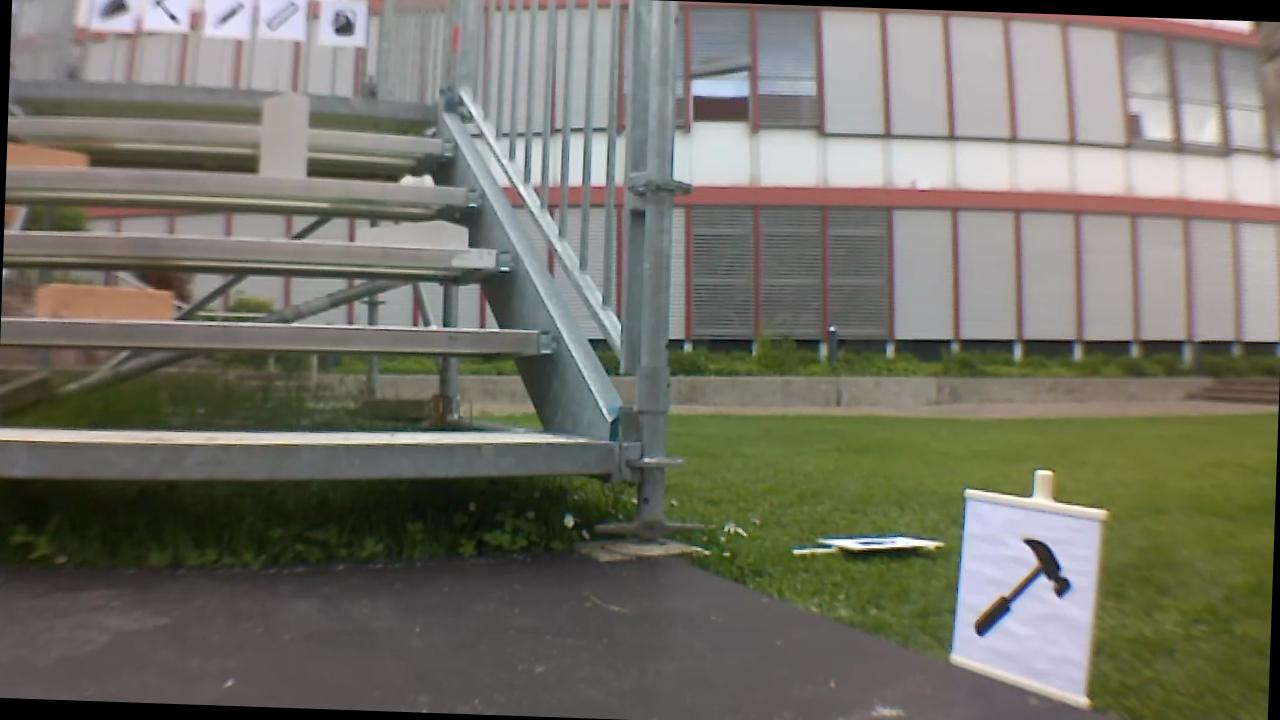brick: (33, 281, 172, 322), (260, 92, 308, 177), (356, 216, 467, 248), (8, 143, 86, 167)
bucket: (324, 3, 359, 39)
edge: (1, 311, 551, 358), (6, 166, 483, 206), (11, 114, 457, 154), (6, 232, 511, 267), (10, 78, 438, 118)
hammer: (965, 525, 1081, 652)
